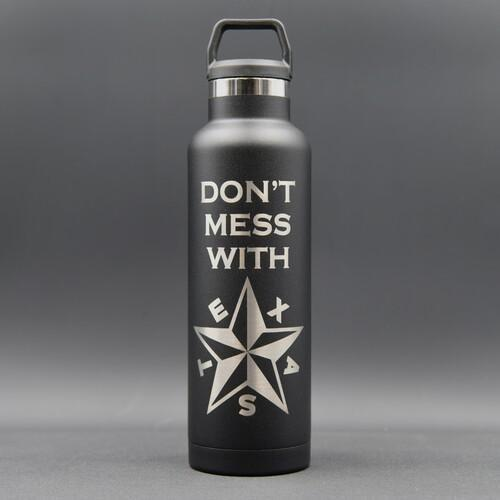gym bottle: (183, 14, 315, 484)
